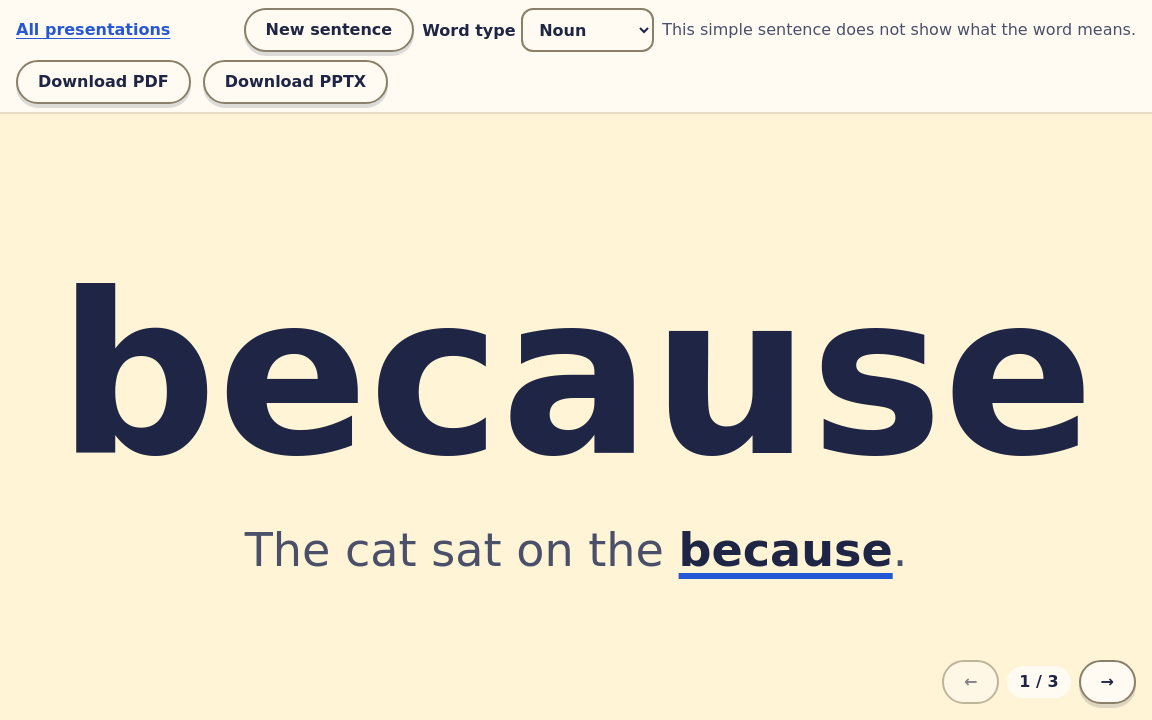
Test case: PresentationPage › sentences › gives the slide a new sentence and saves it
This screenshot has width=1152, height=720.
Click the button "New sentence". click: (329, 30)
box: [244, 8, 414, 52]
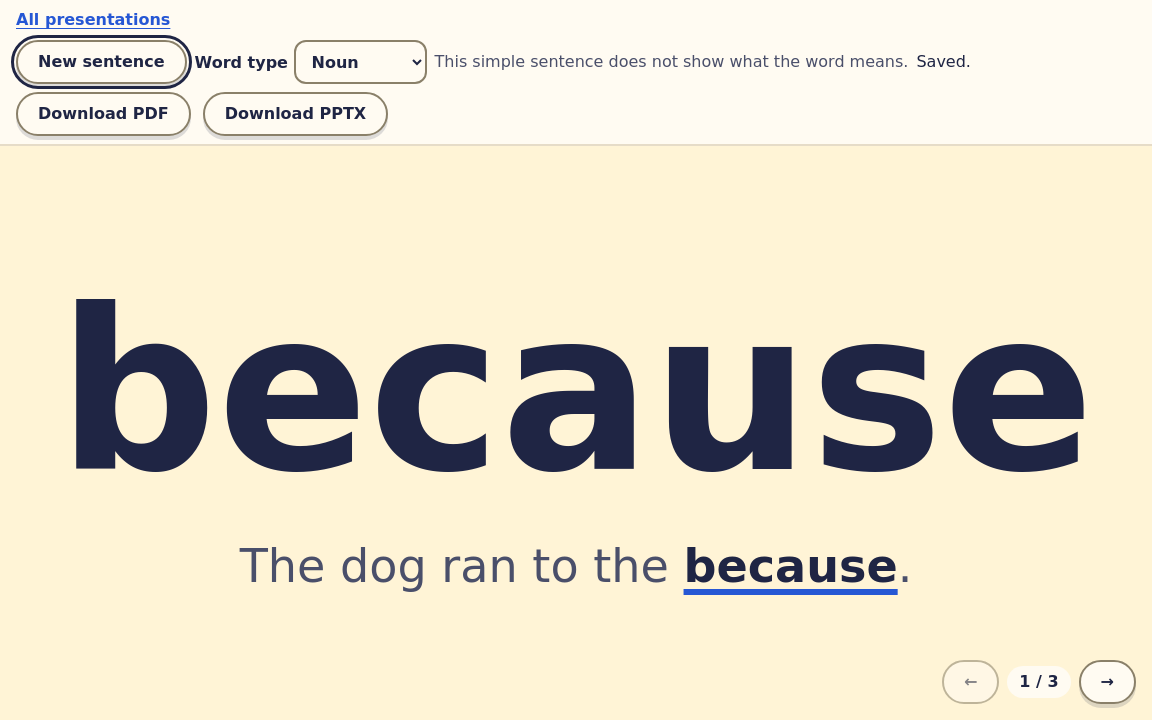
Check: the message reads "Saved.", box [916, 52, 971, 71]
